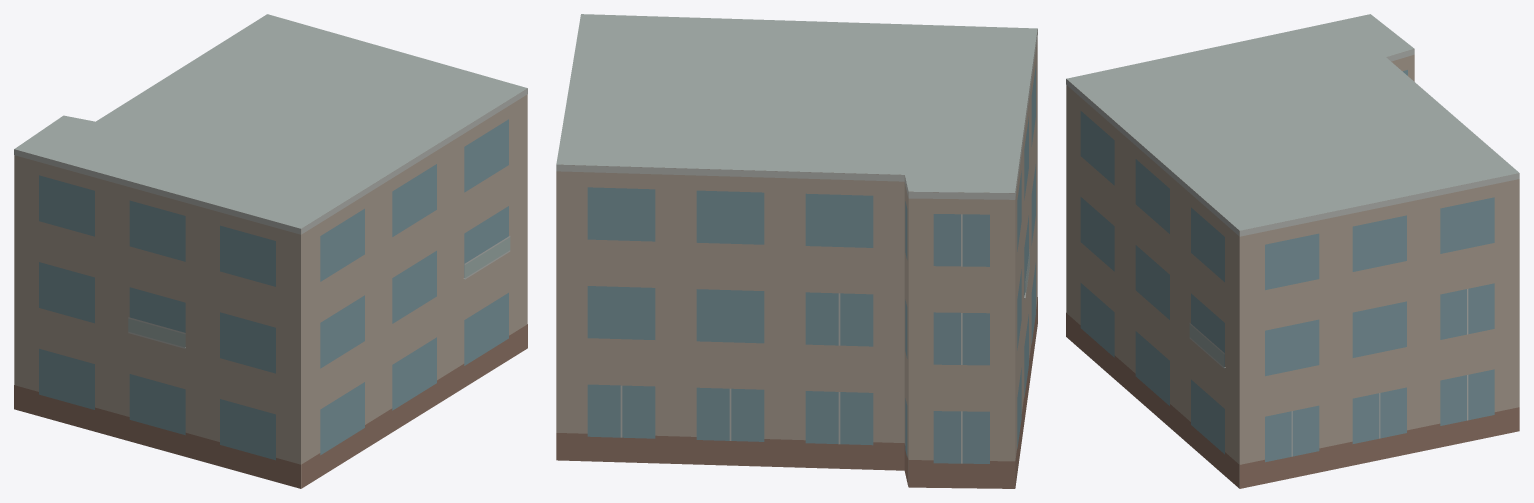
The model's file is survey-upis-32837852.glb.
3 renders of one model, left to right at view 1: azimuth 30°, elevation 25°; view 2: azimuth 150°, elevation 25°; view 3: azimuth 270°, elevation 25°, orthographic. The views are drawn at different scales.
Visible parts, largest first — view 1: survey-upis-32837852.tmp; view 2: survey-upis-32837852.tmp; view 3: survey-upis-32837852.tmp.
Boxes of the visible parts, box(x1,y1,x2,y2) form: survey-upis-32837852.tmp: box(14, 14, 527, 488); survey-upis-32837852.tmp: box(556, 14, 1037, 488); survey-upis-32837852.tmp: box(1066, 14, 1519, 488).
Size of the model in its own units: 19.2 by 10.65 by 16.97.
